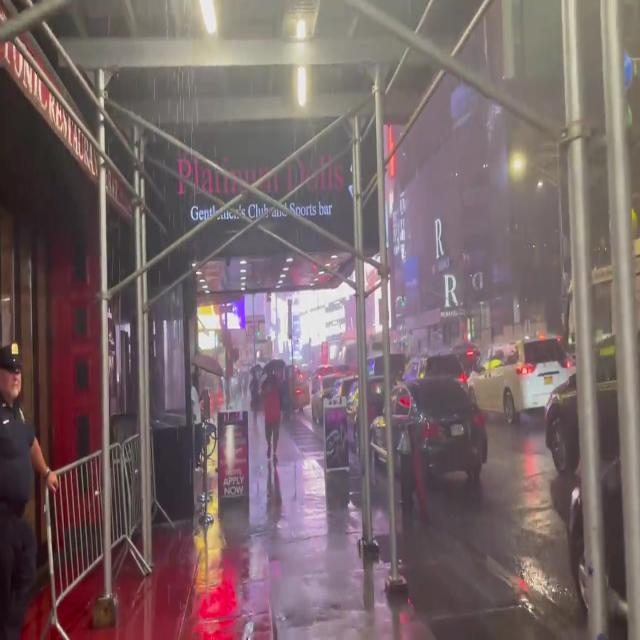Car: (369, 377, 482, 478), (467, 335, 562, 425)
